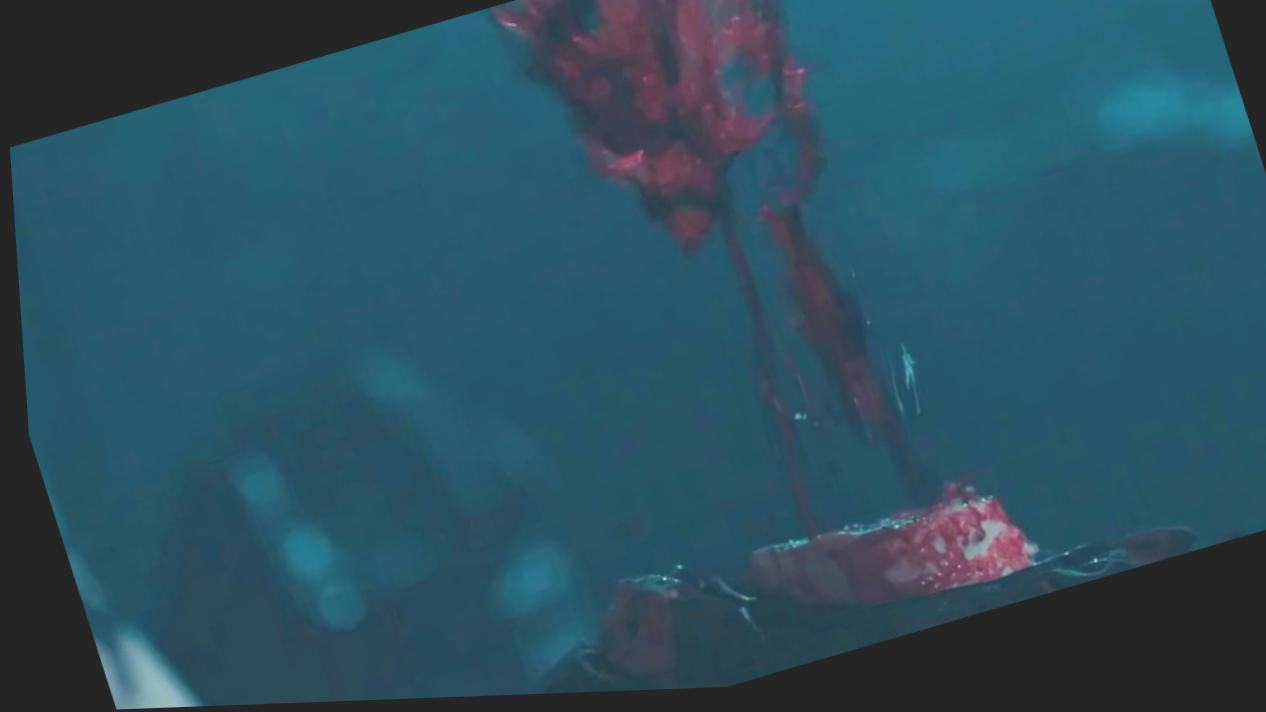Fire: (493, 0, 1027, 615), (592, 578, 766, 694)
